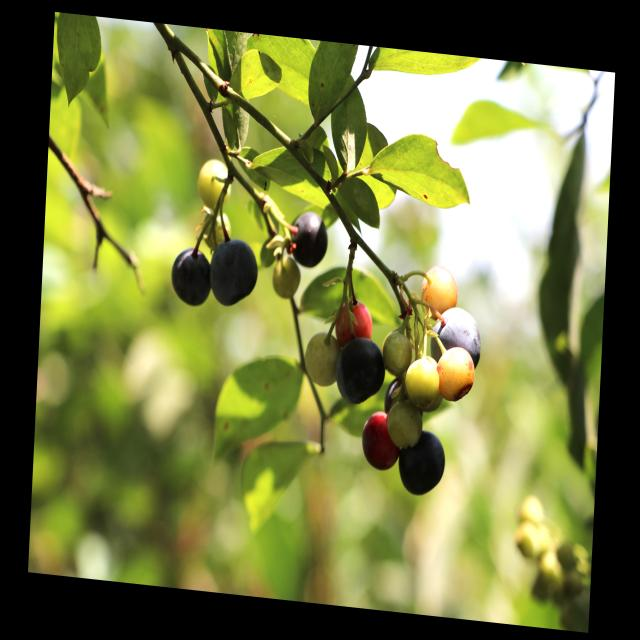blueberry: (392, 424, 448, 504), (334, 330, 388, 408), (207, 235, 261, 312), (428, 302, 485, 372), (168, 242, 212, 308), (286, 210, 329, 272)
blueberry-halfripe: (358, 409, 401, 474), (333, 294, 373, 344)
blueberry-unripe: (436, 341, 477, 402), (422, 264, 461, 316), (303, 331, 338, 387), (388, 399, 426, 445), (195, 157, 230, 206), (405, 357, 440, 403), (272, 253, 300, 298), (384, 324, 411, 370)
